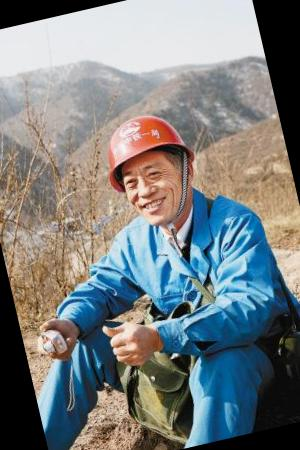person: (0, 83, 300, 450)
